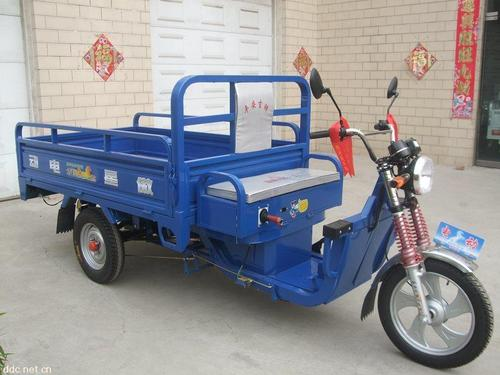empty: (13, 34, 493, 370)
